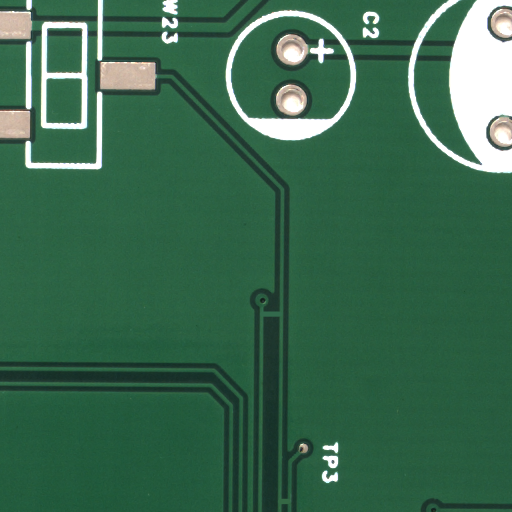Short: (271, 314, 292, 325), (284, 501, 294, 512)
